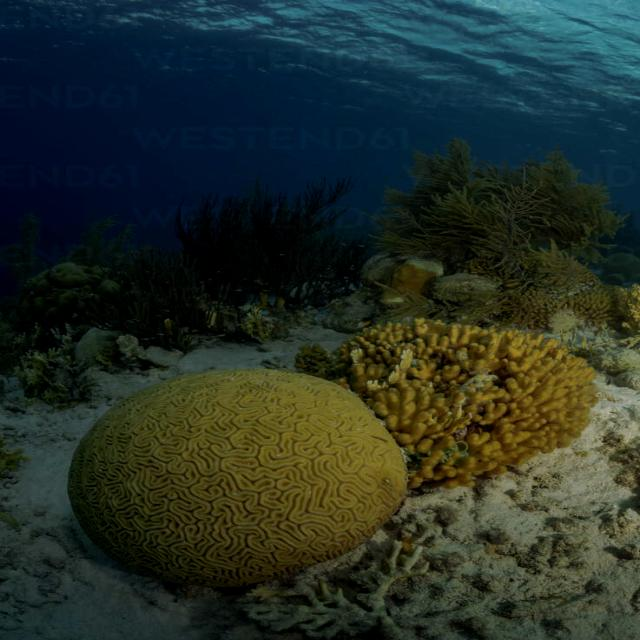Coral: (68, 369, 410, 588), (333, 316, 601, 488)
